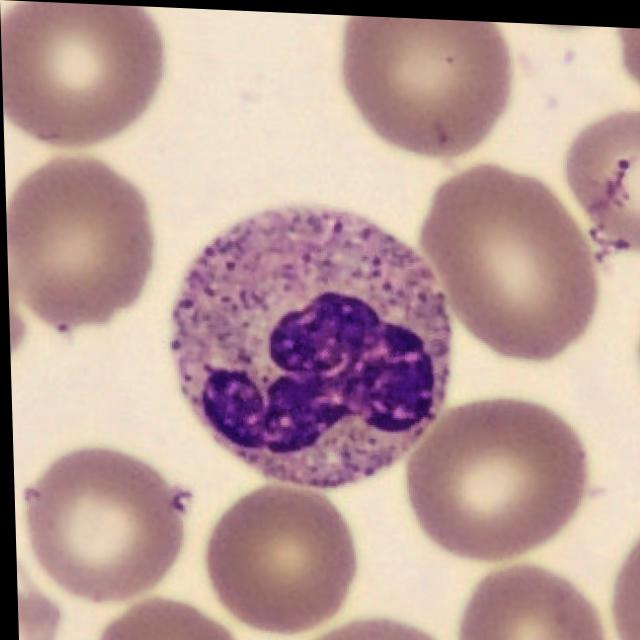Neutrofilo segmentado: (167, 203, 451, 488)
